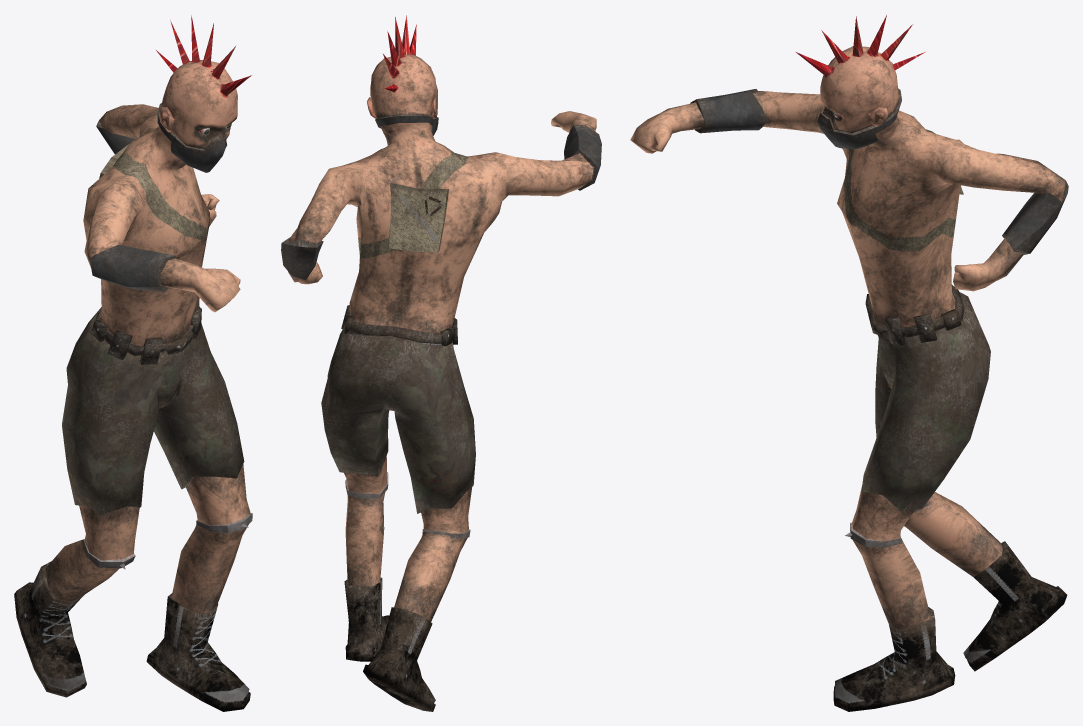
File: Anim_ataque_d2_npc2.0028.obj
The picture shows the model from 3 angles, left to right: view 1: azimuth 30°, elevation 25°; view 2: azimuth 150°, elevation 25°; view 3: azimuth 270°, elevation 25°; orthographic projection. The views are drawn at different scales.
Parts seen in each view (by area): view 1: polySurface1; view 2: polySurface1; view 3: polySurface1.
Boxes of the visible parts, x1,y1,x2,y2 form: polySurface1: [14, 15, 252, 711]; polySurface1: [281, 15, 601, 711]; polySurface1: [630, 15, 1068, 711].
Bounding box in the file's own units: 3.42 × 9.86 × 5.65.
